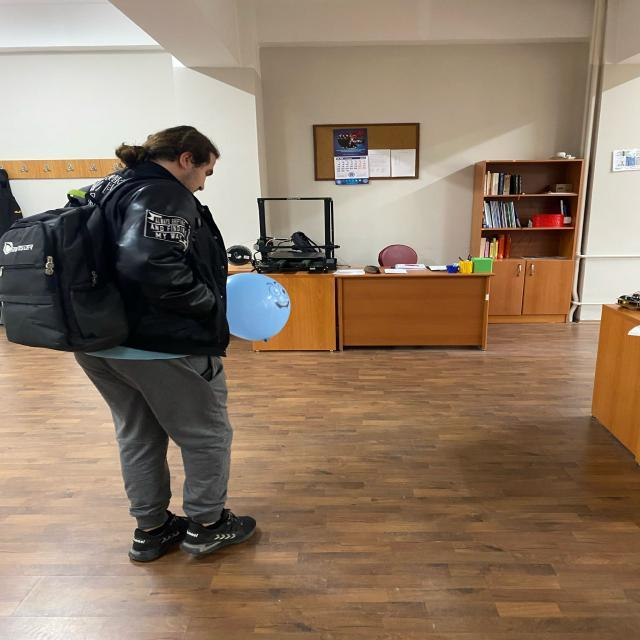balloon: (216, 270, 292, 345)
